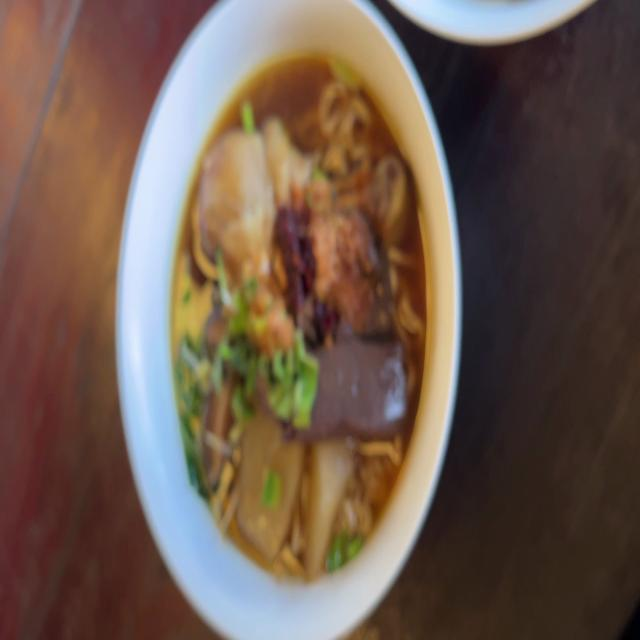noodle: (168, 56, 434, 570)
